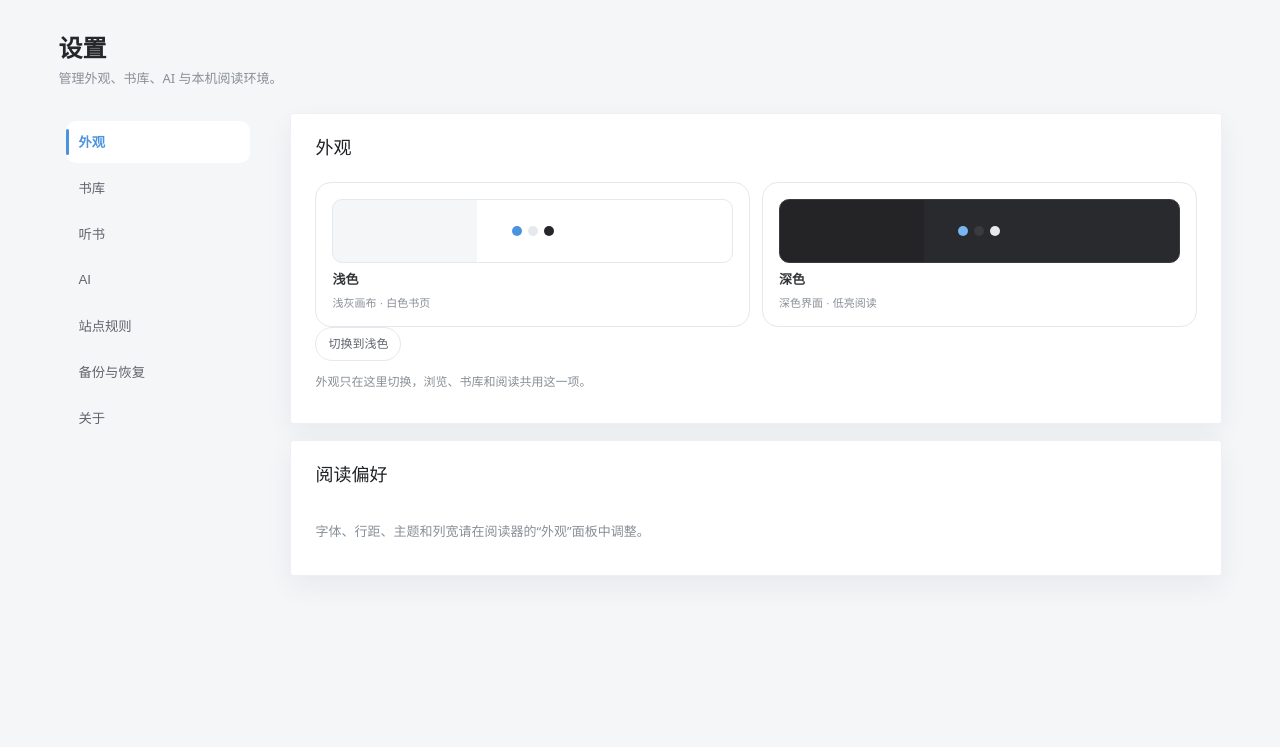
Test: Settings section content visibility › keeps all established operations reachable in their fixed sections
Expected: the element with class "settings-card" that starts with "阅读偏好" is shown, [290,440,1222,576]
Expected: the element with class "settings-card" shows "字体、行距、主题和列宽请在阅读器的“外观”面板中调整。", [315,522,650,540]
Click the button with class "settings-nav-item" showing "书库". click: (158, 188)
box: [66,167,250,209]
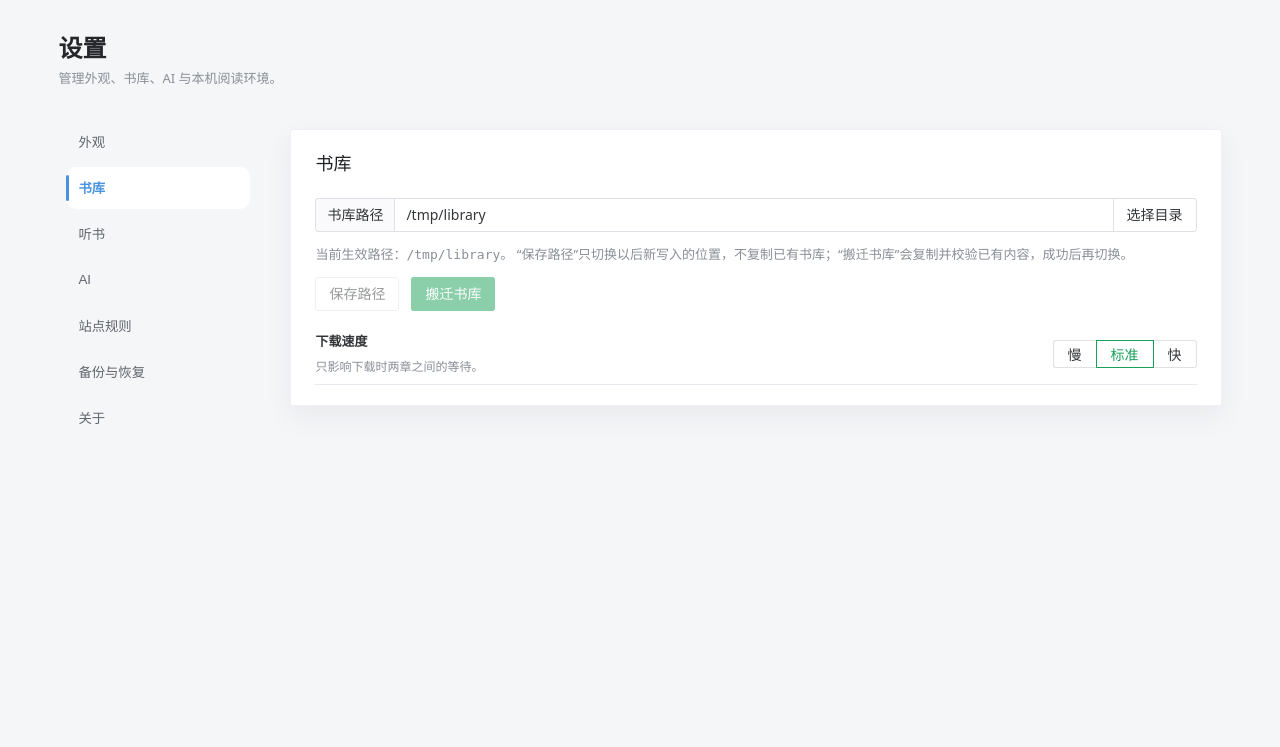
Now the element with class "settings-card" is shown, box [290,129,1222,406]
Now the element with class "settings-card" shows "搬迁书库", box [411,277,495,311]
Click the button with class "settings-nav-item" showing "听书". click: (158, 234)
box: [66,213,250,255]
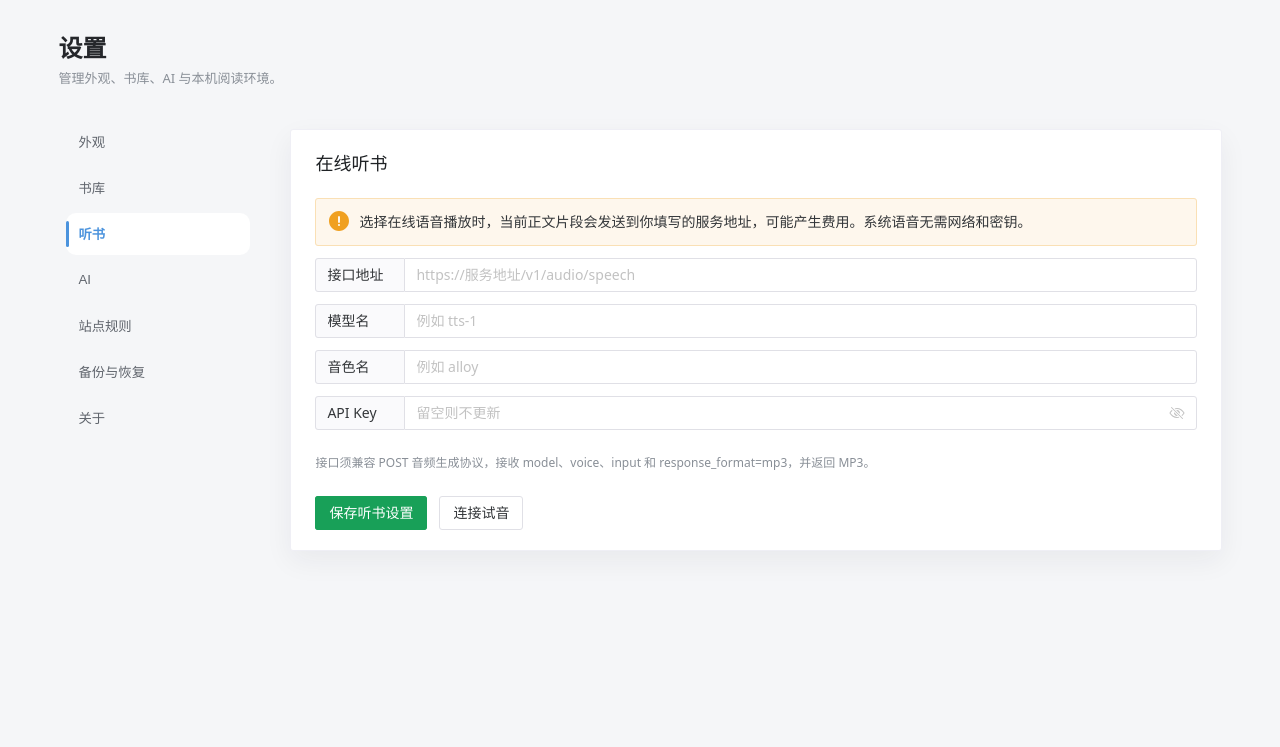
Now the element with class "settings-card" is shown, box [290,129,1222,551]
Now the element with class "settings-card" shows "连接试音", box [439,496,523,530]
Click the button with class "settings-nav-item" showing "AI". click: (158, 280)
box: [66,259,250,301]
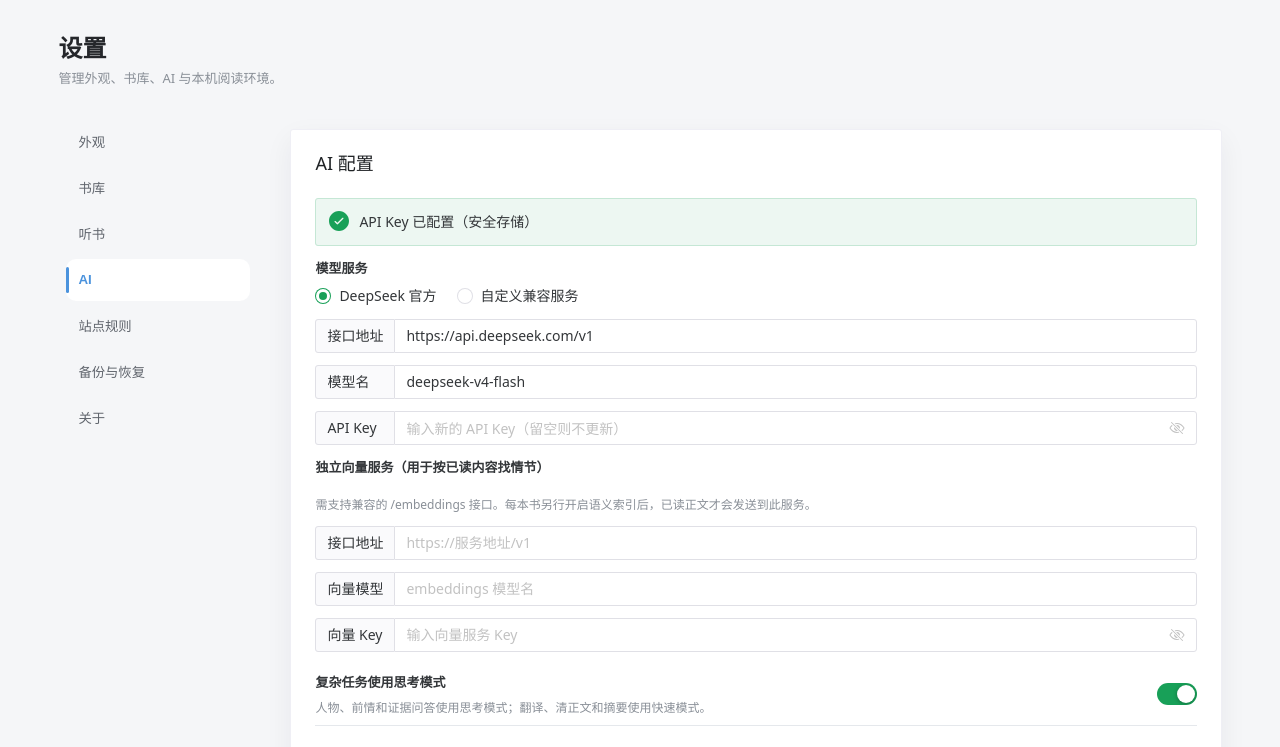
Click the button with class "settings-nav-item" showing "站点规则". click: (158, 326)
box: [66,305,250,347]
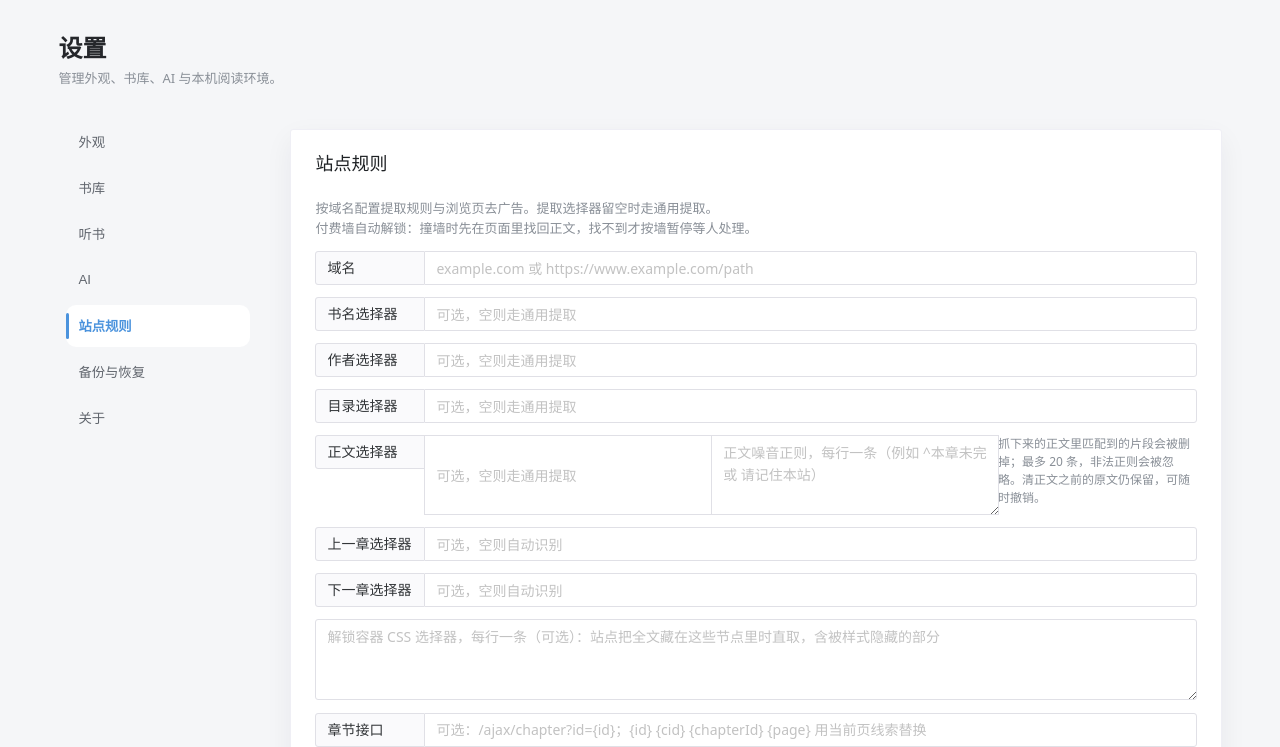
Now the element with class "settings-card" shows "书名选择器", box [327,304,397,323]
Click the button with class "settings-nav-item" showing "备份与恢复". click: (158, 372)
box: [66,351,250,393]
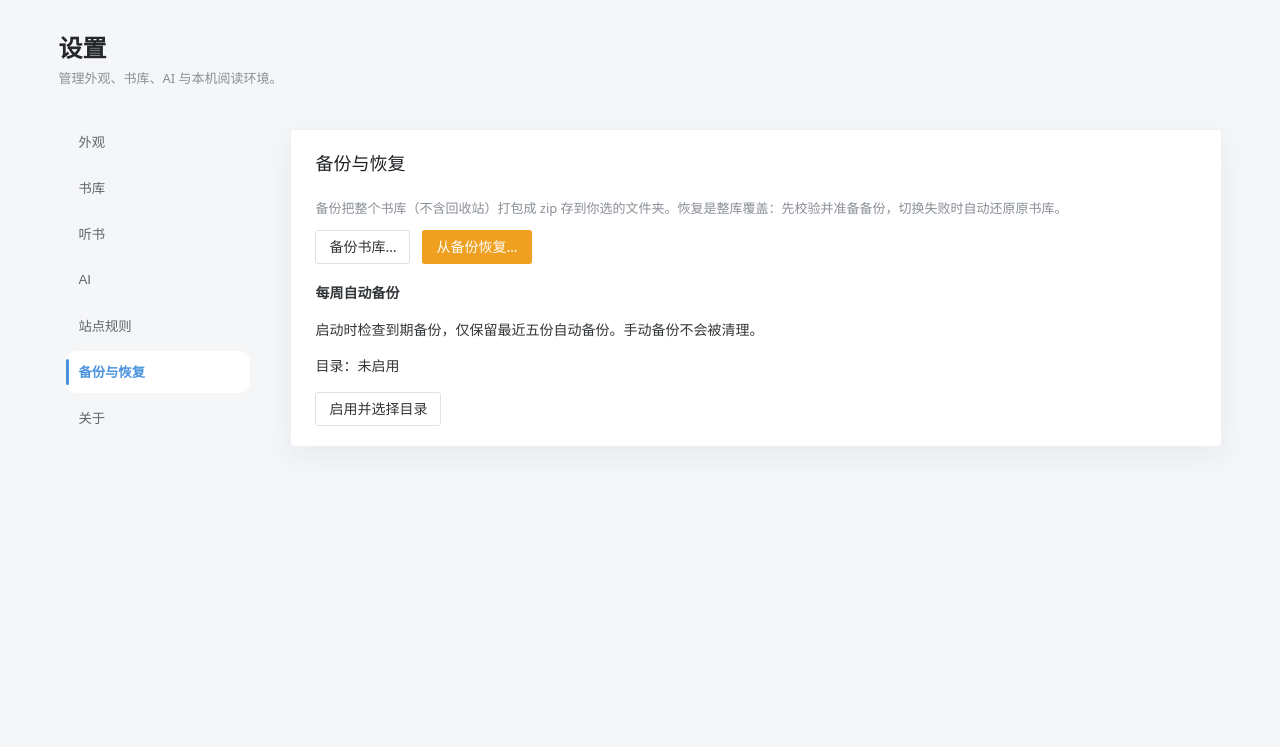
Now the element with class "settings-card" is shown, box [290,129,1222,447]
Now the element with class "settings-card" shows "备份书库…", box [315,230,410,264]
Now the element with class "settings-card" shows "从备份恢复…", box [422,230,532,264]
Click the button with class "settings-nav-item" showing "关于". click: (158, 418)
box: [66,397,250,439]
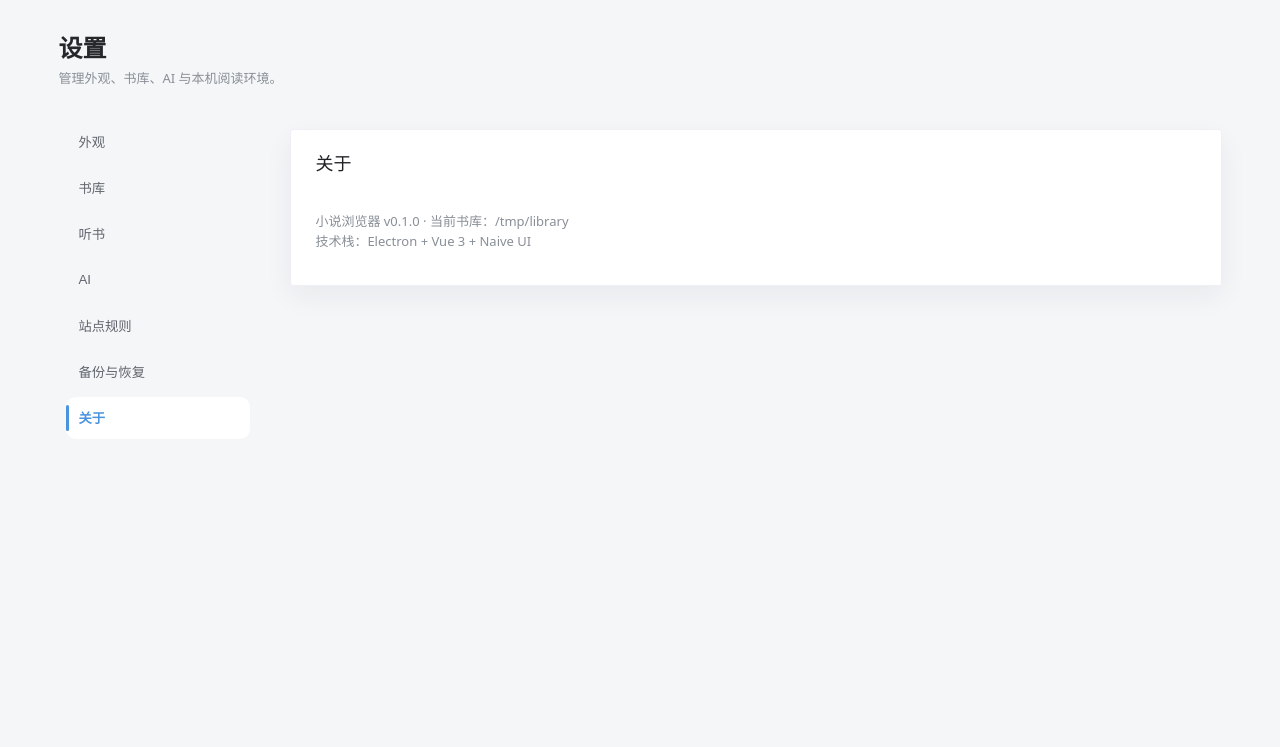
Now the element with class "settings-card" is shown, box [290,129,1222,286]
Now the element with class "settings-card" shows "技术栈：Electron + Vue 3 + Naive UI", box [315,232,531,250]
